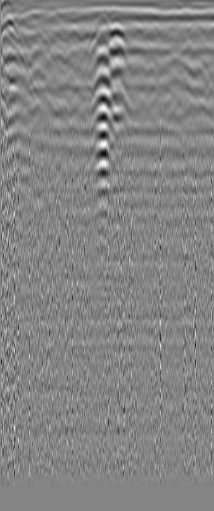오수: (29, 27, 49, 47)
우수: (187, 23, 207, 43)
